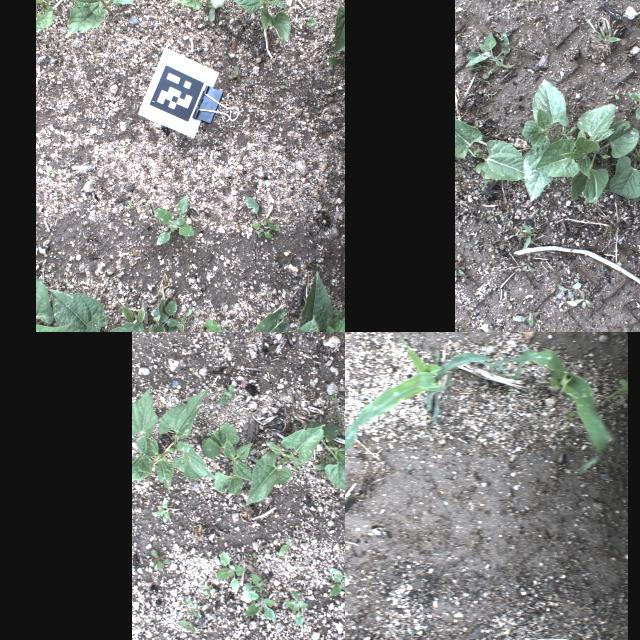crop: (345, 332, 502, 474), (478, 348, 612, 472), (132, 390, 216, 492), (521, 78, 577, 200), (558, 120, 638, 202), (246, 424, 324, 506), (534, 102, 614, 176), (246, 271, 330, 332), (454, 118, 524, 180), (202, 423, 252, 495), (50, 290, 135, 332), (83, 304, 208, 332), (65, 0, 150, 38), (305, 419, 345, 492), (228, 0, 290, 41), (131, 387, 157, 471), (608, 130, 640, 198), (35, 275, 71, 332), (170, 0, 234, 22), (35, 0, 75, 32), (327, 0, 345, 66), (602, 379, 626, 401)
weed: (463, 30, 521, 78), (153, 192, 194, 245), (216, 550, 244, 594), (239, 590, 275, 622), (299, 307, 345, 332), (150, 297, 181, 332), (284, 588, 308, 626), (154, 495, 178, 523), (329, 566, 345, 606), (252, 216, 280, 238), (556, 281, 580, 301), (242, 572, 266, 592), (516, 223, 532, 249), (594, 26, 622, 40), (218, 382, 234, 406), (315, 454, 339, 470), (204, 319, 232, 332), (627, 92, 640, 120), (182, 598, 200, 618), (245, 196, 261, 218), (511, 312, 533, 326), (277, 534, 291, 556), (574, 291, 592, 307), (150, 548, 162, 570), (518, 260, 536, 274), (152, 557, 170, 571), (500, 290, 512, 310), (228, 64, 240, 82), (177, 620, 195, 632), (558, 297, 576, 307), (486, 210, 500, 222), (486, 242, 498, 254), (607, 88, 619, 100), (454, 262, 464, 276), (249, 550, 257, 566), (632, 191, 640, 206), (479, 179, 489, 191), (202, 586, 214, 596), (562, 412, 574, 421), (306, 16, 316, 26), (45, 167, 55, 177), (332, 412, 342, 422), (280, 78, 288, 88), (328, 392, 337, 400), (172, 637, 194, 640), (528, 210, 538, 216), (118, 26, 126, 32), (506, 216, 512, 224), (454, 270, 458, 282), (333, 404, 339, 412), (472, 239, 478, 245), (406, 463, 412, 469), (126, 200, 130, 208), (514, 228, 518, 236), (474, 119, 478, 127), (64, 280, 68, 286)
